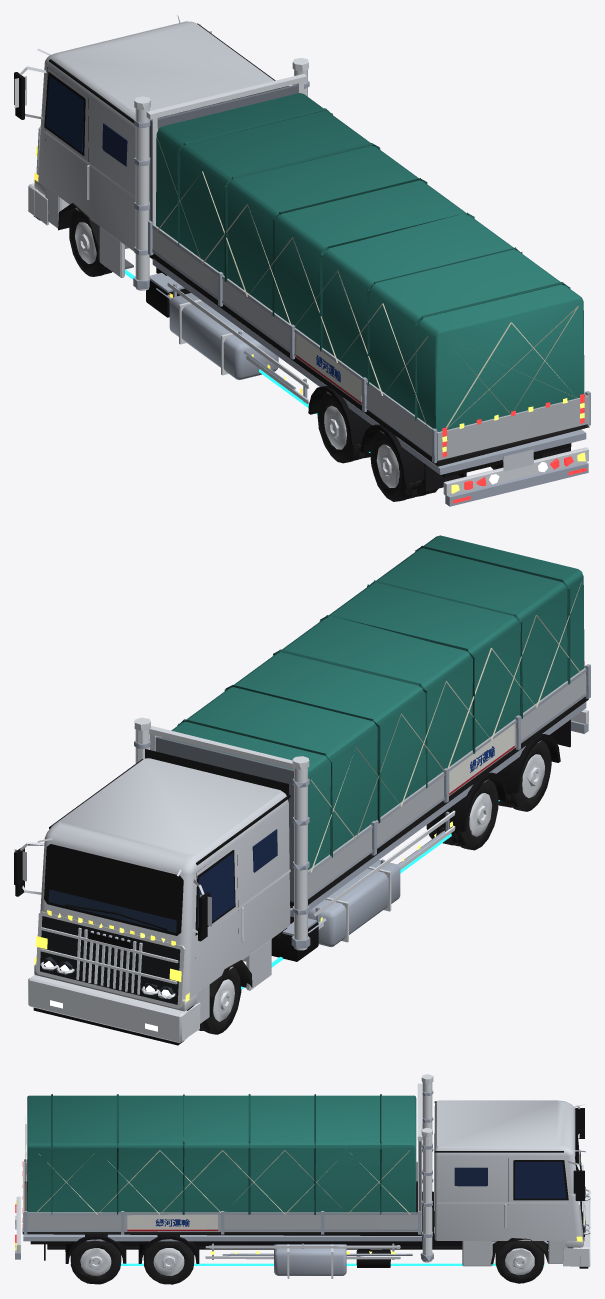
Rendered from dekotora_truck_tarp_lod1.glb.
3 renders of one model, top to bottom at view 1: azimuth 30°, elevation 25°; view 2: azimuth 150°, elevation 25°; view 3: azimuth 270°, elevation 25°, orthographic. The views are drawn at different scales.
Visible parts, largest first — view 1: lod1_tarp, lod1_paint_white_panel, lod1_steel, lod1_chrome, lod1_box_alu, lod1_plastic_black, lod1_tarp_dark, lod1_rubber_tire, lod1_plastic_trim, lod1_glass, lod1_rope, lod1_mesh_perf (+2 smaller); view 2: lod1_tarp, lod1_paint_white_panel, lod1_chrome, lod1_plastic_black, lod1_steel, lod1_box_alu, lod1_vent_slots, lod1_tarp_dark, lod1_plastic_trim, lod1_rubber_tire, lod1_mesh_perf, lod1_glass (+3 smaller); view 3: lod1_tarp, lod1_paint_white_panel, lod1_steel, lod1_chrome, lod1_box_alu, lod1_plastic_black, lod1_rubber_tire, lod1_glass, lod1_plastic_trim, lod1_tarp_dark, lod1_band_white, lod1_rope (+1 smaller).
Part boxes in pixels (x1,y1,x2,y2): lod1_tarp: [156, 93, 584, 431]; lod1_paint_white_panel: [34, 21, 274, 277]; lod1_steel: [133, 81, 590, 506]; lod1_chrome: [14, 15, 588, 495]; lod1_box_alu: [152, 224, 589, 460]; lod1_plastic_black: [14, 23, 571, 483]; lod1_tarp_dark: [177, 108, 570, 420]; lod1_rubber_tire: [69, 209, 539, 501]; lod1_plastic_trim: [58, 86, 589, 466]; lod1_glass: [45, 76, 127, 166]; lod1_rope: [157, 138, 578, 428]; lod1_mesh_perf: [150, 84, 298, 221]; lod1_tarp: [162, 535, 584, 869]; lod1_paint_white_panel: [34, 758, 290, 1023]; lod1_chrome: [14, 709, 588, 1042]; lod1_plastic_black: [14, 734, 560, 1045]; lod1_steel: [134, 664, 590, 948]; lod1_box_alu: [308, 665, 586, 898]; lod1_vent_slots: [40, 916, 180, 1004]; lod1_tarp_dark: [177, 545, 570, 857]; lod1_plastic_trim: [145, 697, 588, 1016]; lod1_rubber_tire: [198, 741, 551, 1034]; lod1_mesh_perf: [155, 736, 293, 901]; lod1_glass: [197, 829, 277, 930]; lod1_tarp: [27, 1095, 416, 1212]; lod1_paint_white_panel: [434, 1100, 583, 1266]; lod1_steel: [15, 1090, 548, 1275]; lod1_chrome: [16, 1074, 590, 1278]; lod1_box_alu: [23, 1161, 417, 1231]; lod1_plastic_black: [30, 1101, 588, 1268]; lod1_rubber_tire: [70, 1240, 544, 1284]; lod1_glass: [454, 1162, 566, 1198]; lod1_plastic_trim: [22, 1133, 548, 1264]; lod1_tarp_dark: [51, 1094, 381, 1214]; lod1_band_white: [127, 1214, 217, 1229]; lod1_rope: [25, 1116, 410, 1214].
Bounding box in the file's own units: 3.24 × 3.55 × 11.84.
26 materials, 7 textured.
